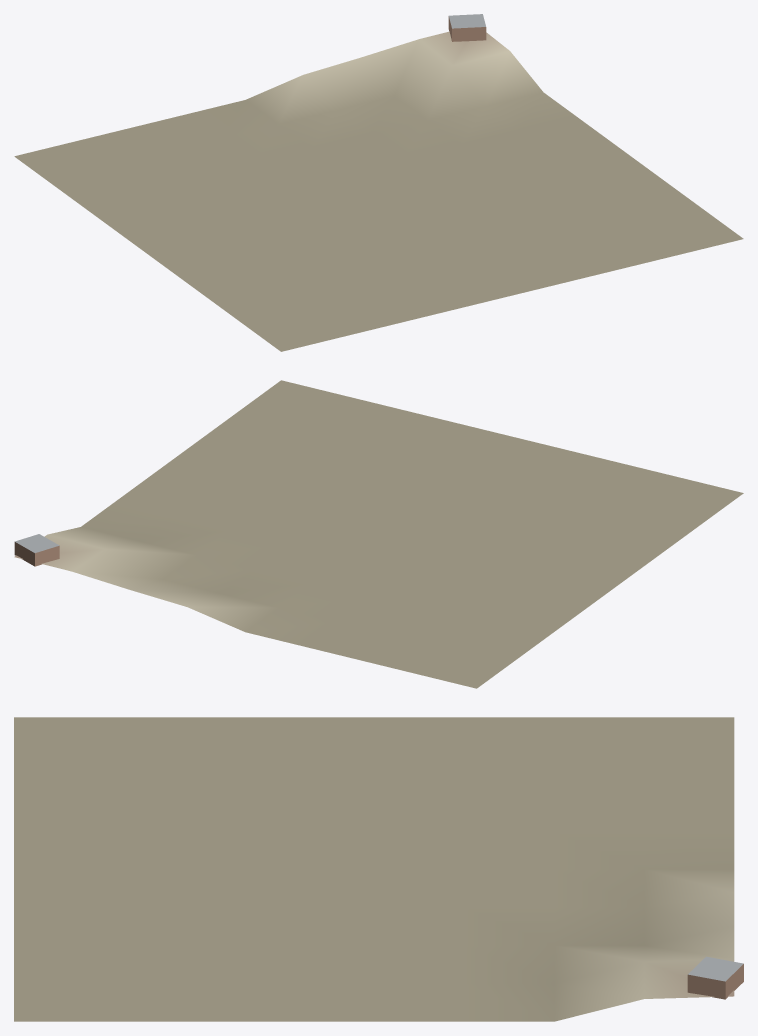
3 renders of one model, top to bottom at view 1: azimuth 30°, elevation 25°; view 2: azimuth 150°, elevation 25°; view 3: azimuth 270°, elevation 25°, orthographic. The views are drawn at different scales.
Visible parts, largest first — view 1: Lo; view 2: Lo; view 3: Lo.
Boxes of the visible parts, box(x1,y1,x2,y2) form: Lo: box(14, 14, 743, 351); Lo: box(14, 380, 743, 688); Lo: box(14, 717, 743, 1021).
Bounding box in the file's own units: 258 × 16.46 × 259.
